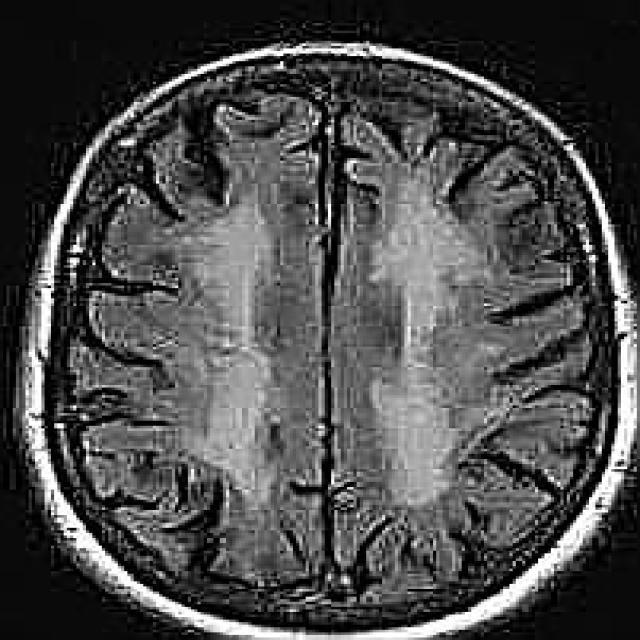notumor: (22, 43, 637, 637)
